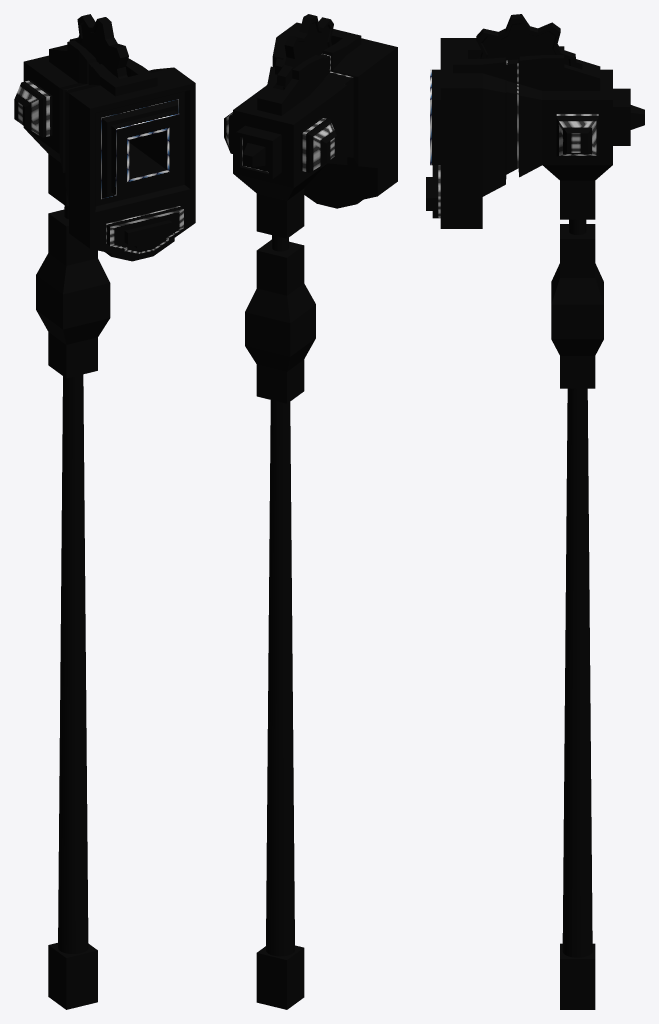
Rendered from Dispenser_2_0.fbx.
3 views of the same model, side by side, from view 1: azimuth 30°, elevation 25°; view 2: azimuth 150°, elevation 25°; view 3: azimuth 270°, elevation 25° (orthographic). The views are drawn at different scales.
Visible parts, largest first — view 1: Dispenser, Dispenser_Prop_0, Dispenser_Prop_1, Gear; view 2: Dispenser, Dispenser_Prop_0, Dispenser_Prop_1, Gear; view 3: Dispenser, Dispenser_Prop_0, Dispenser_Prop_1, Gear.
Part boxes in pixels (x1,y1,x2,y2): Dispenser: [14, 40, 195, 261]; Dispenser_Prop_0: [48, 154, 97, 1009]; Dispenser_Prop_1: [36, 209, 110, 378]; Gear: [69, 14, 128, 78]; Dispenser: [224, 22, 397, 208]; Dispenser_Prop_0: [256, 188, 304, 1009]; Dispenser_Prop_1: [245, 239, 315, 403]; Gear: [276, 14, 333, 89]; Dispenser: [426, 38, 644, 228]; Dispenser_Prop_0: [560, 180, 595, 1009]; Dispenser_Prop_1: [551, 224, 603, 388]; Gear: [476, 14, 576, 67].
Size of the model in its own units: 1.01 by 9.08 by 1.83.
1 material, 1 textured.
